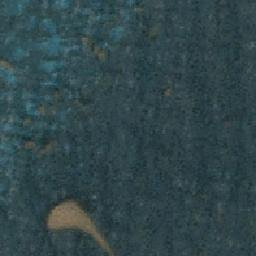debris: (45, 198, 115, 256)
